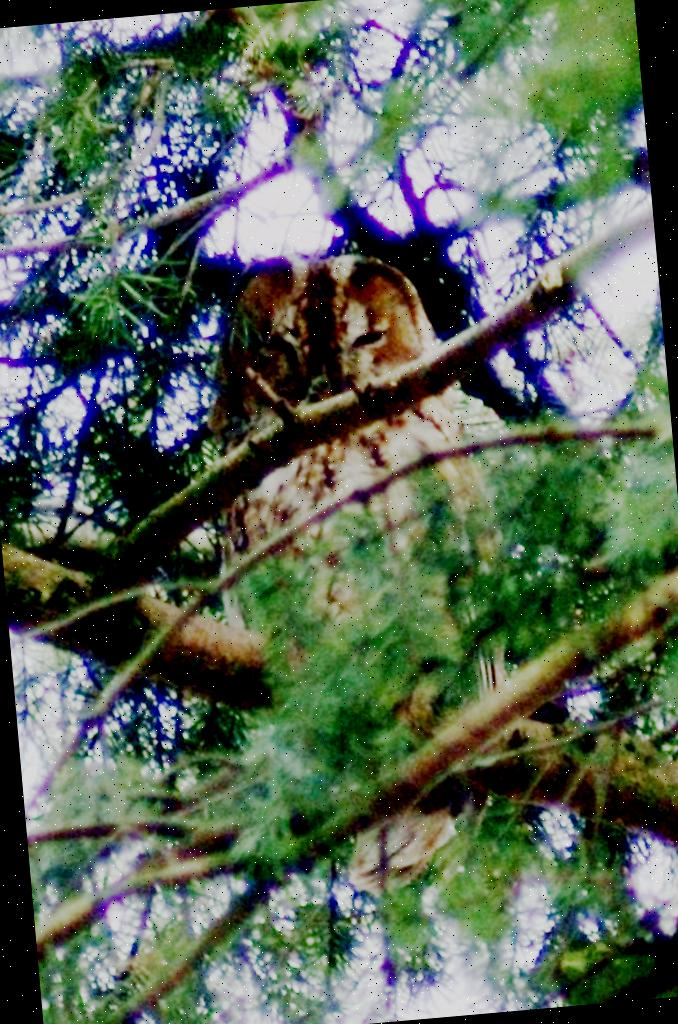Owl: (163, 216, 521, 618)
